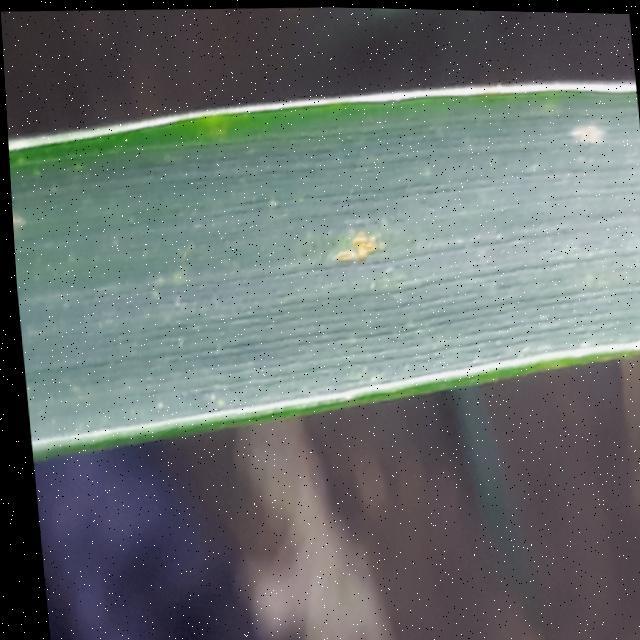orang_rust: (243, 88, 487, 376)
